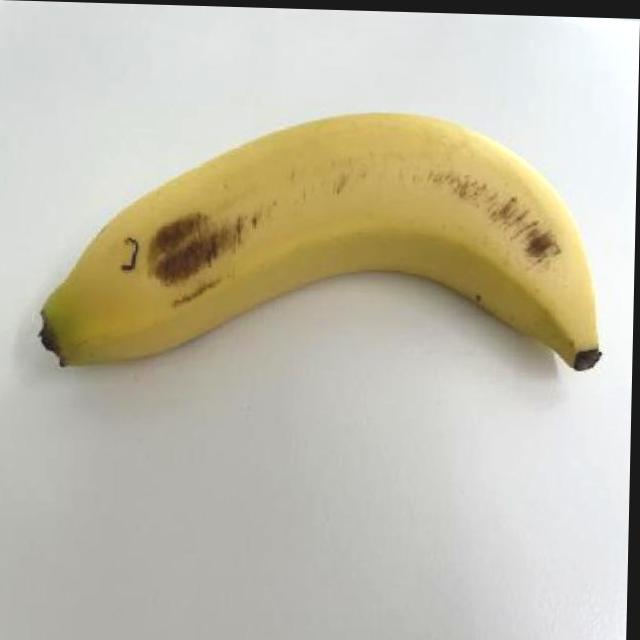banana: (30, 96, 610, 390)
